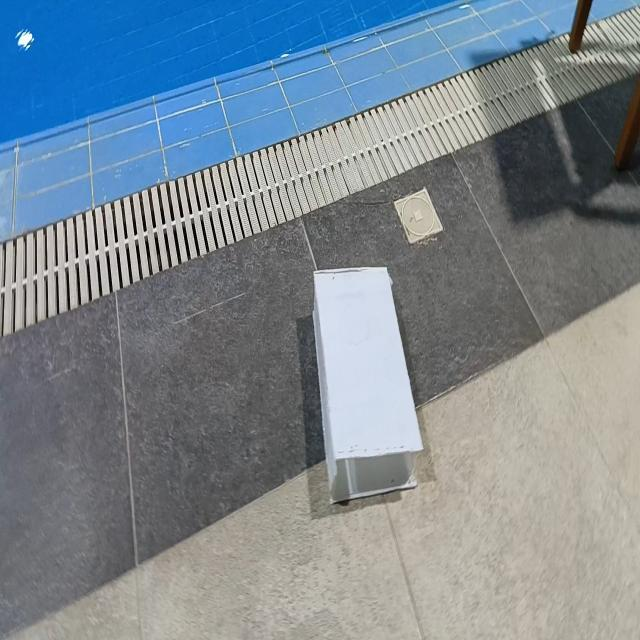Cuboid: (312, 264, 424, 504)
